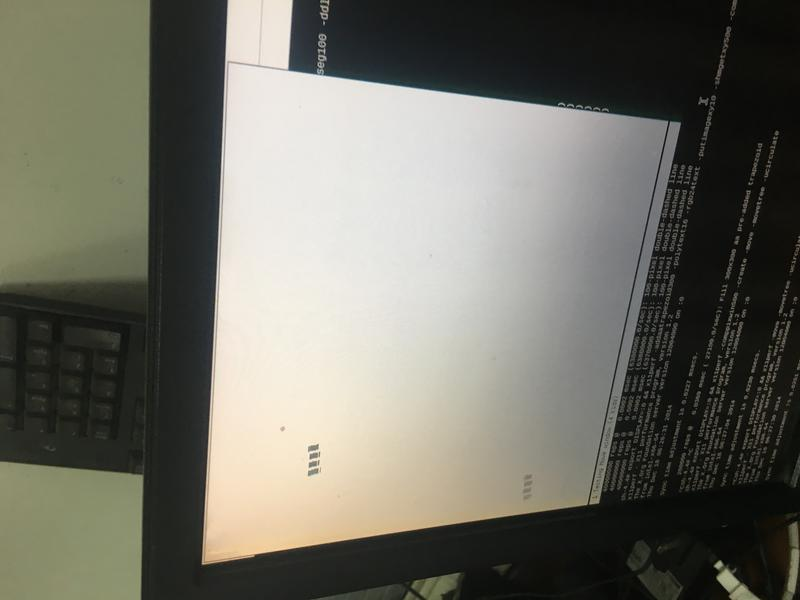xrandr_pass: (161, 55, 684, 571)
